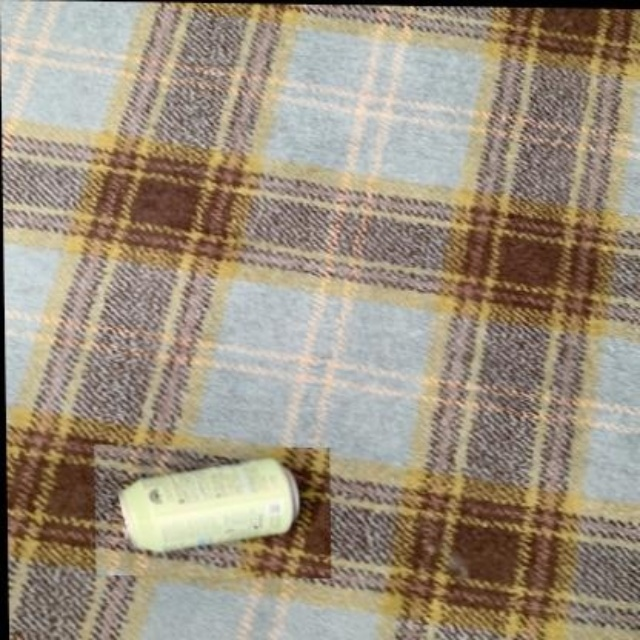trash: (118, 458, 298, 551)
